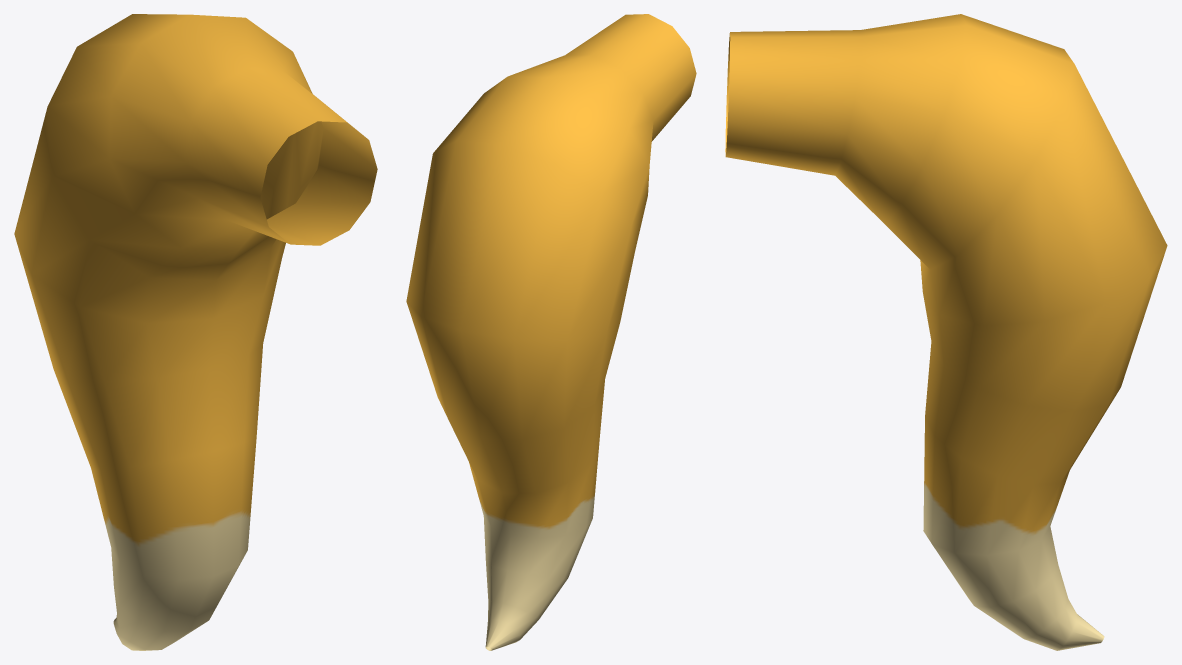
The model's file is tail.glb.
3 views of the same model, side by side, from view 1: azimuth 30°, elevation 25°; view 2: azimuth 150°, elevation 25°; view 3: azimuth 270°, elevation 25° (orthographic). The views are drawn at different scales.
Parts seen in each view (by area): view 1: tail; view 2: tail; view 3: tail.
Boxes of the visible parts, x1,y1,x2,y2 form: tail: [14, 14, 377, 650]; tail: [406, 14, 696, 650]; tail: [725, 14, 1167, 650].
Bounding box in the file's own units: 0.3265 × 0.8588 × 0.5519.
1 material, 1 textured.
